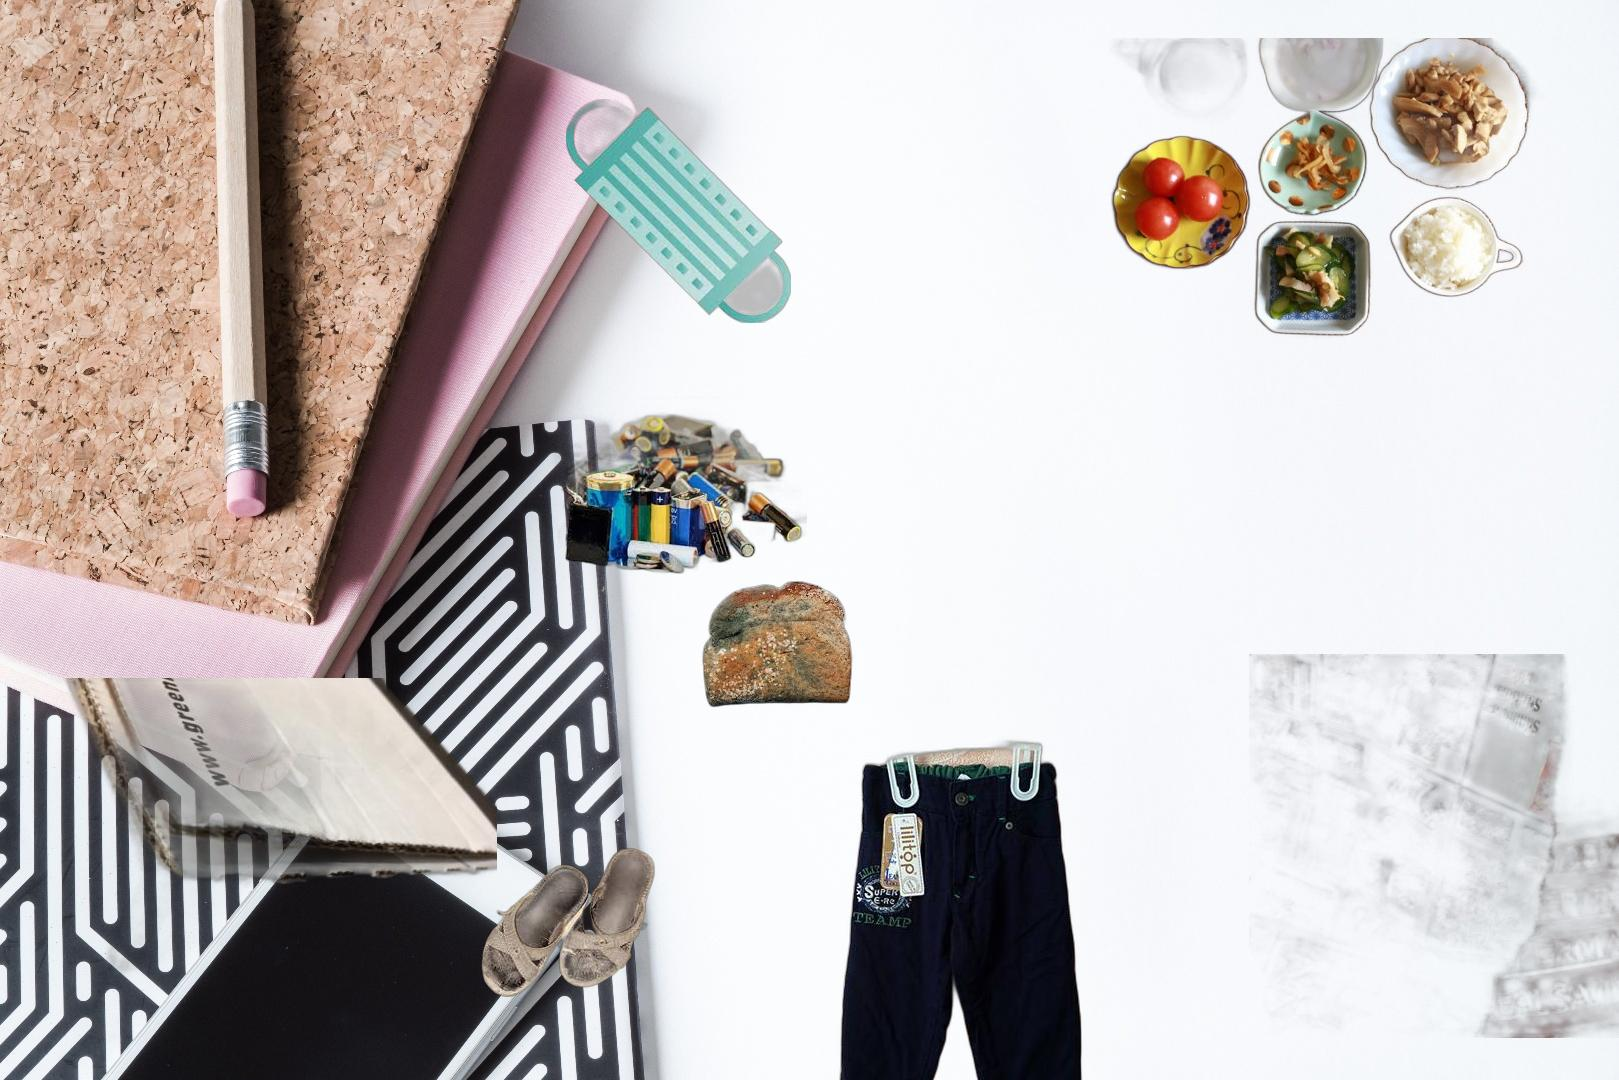battery: (545, 397, 806, 575)
biological: (1107, 39, 1545, 342), (700, 579, 855, 709)
clothes: (827, 736, 1085, 1080)
paper: (1249, 655, 1619, 1038)
shoes: (479, 847, 658, 1000)
trash: (567, 99, 791, 323)
trashbox-cardboard: (54, 677, 497, 1062)
